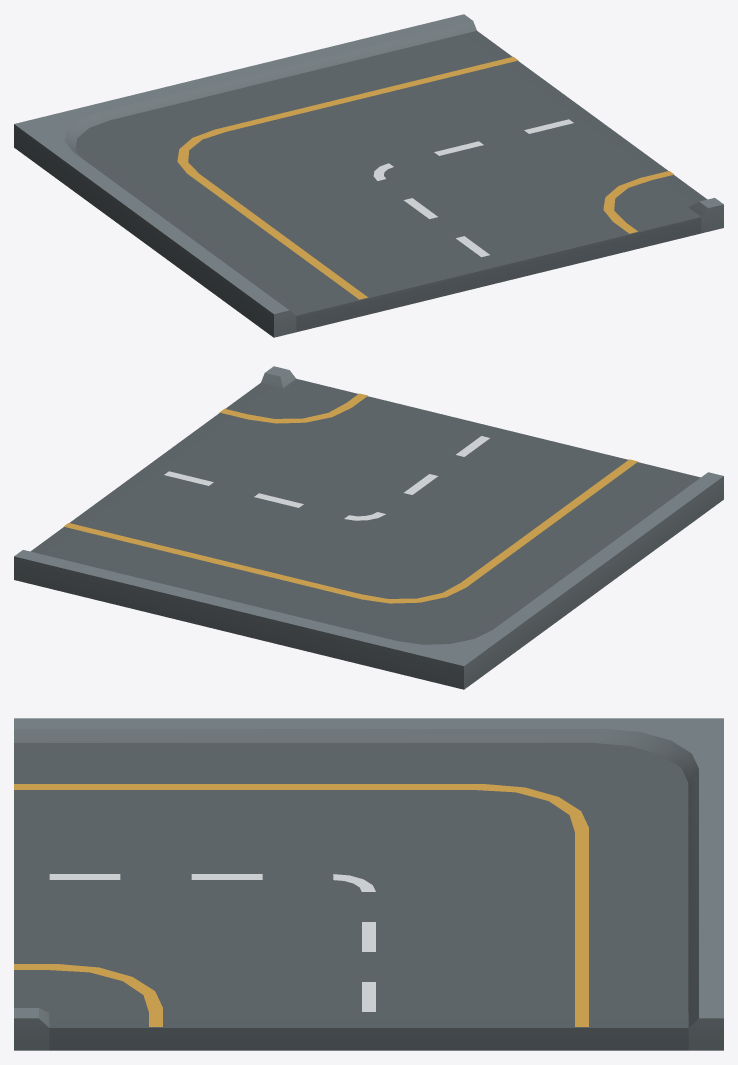
Rendered from road-corner.glb.
The picture shows the model from 3 angles, top to bottom: view 1: azimuth 30°, elevation 25°; view 2: azimuth 150°, elevation 25°; view 3: azimuth 270°, elevation 25°; orthographic projection. The views are drawn at different scales.
Visible parts, largest first — view 1: road_corner; view 2: road_corner; view 3: road_corner.
Boxes of the visible parts, bbox=[...] form: road_corner: bbox=[14, 14, 723, 337]; road_corner: bbox=[14, 366, 723, 689]; road_corner: bbox=[14, 718, 723, 1050].
Size of the model in its own units: 2 by 0.1 by 2.
1 material, 1 textured.
